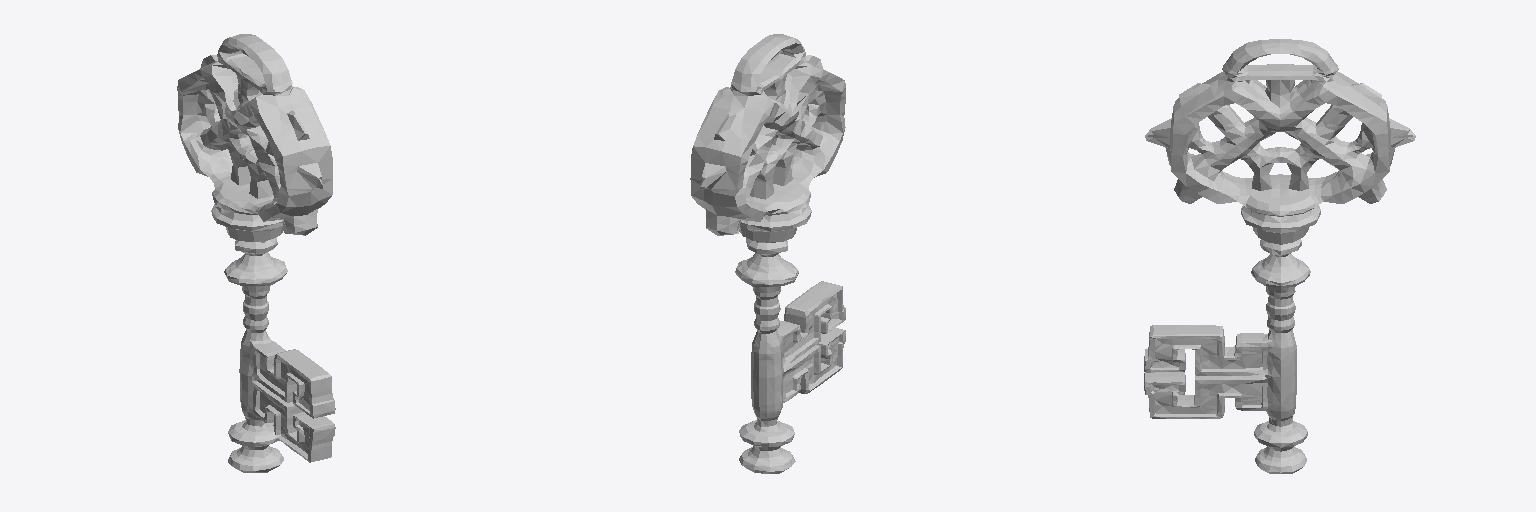
Rendered from Key.obj.
3 views of the same model, side by side, from view 1: azimuth 30°, elevation 25°; view 2: azimuth 150°, elevation 25°; view 3: azimuth 270°, elevation 25° (orthographic).
Parts seen in each view (by area): view 1: Object_2; view 2: Object_2; view 3: Object_2.
Boxes of the visible parts, <box> form: Object_2: <box>177,34,335,472</box>; Object_2: <box>690,34,845,473</box>; Object_2: <box>1144,39,1415,473</box>.
Size of the model in its own units: 0.5551 by 2.84 by 1.64.